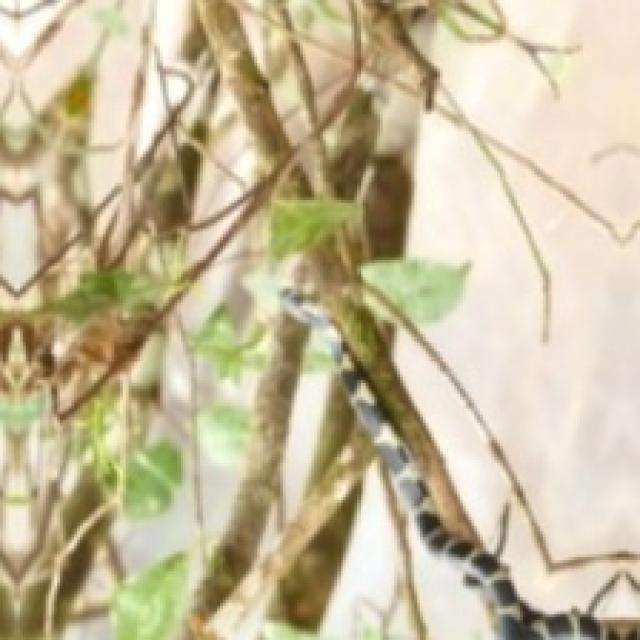king cobra: (284, 298, 640, 640)
